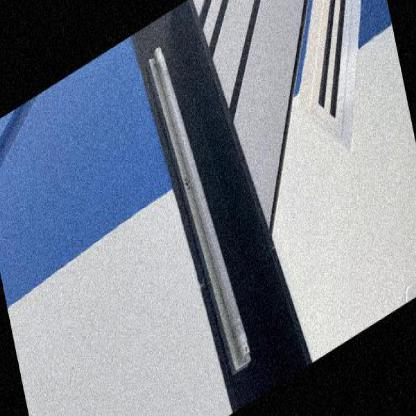light_off: (136, 15, 264, 399)
